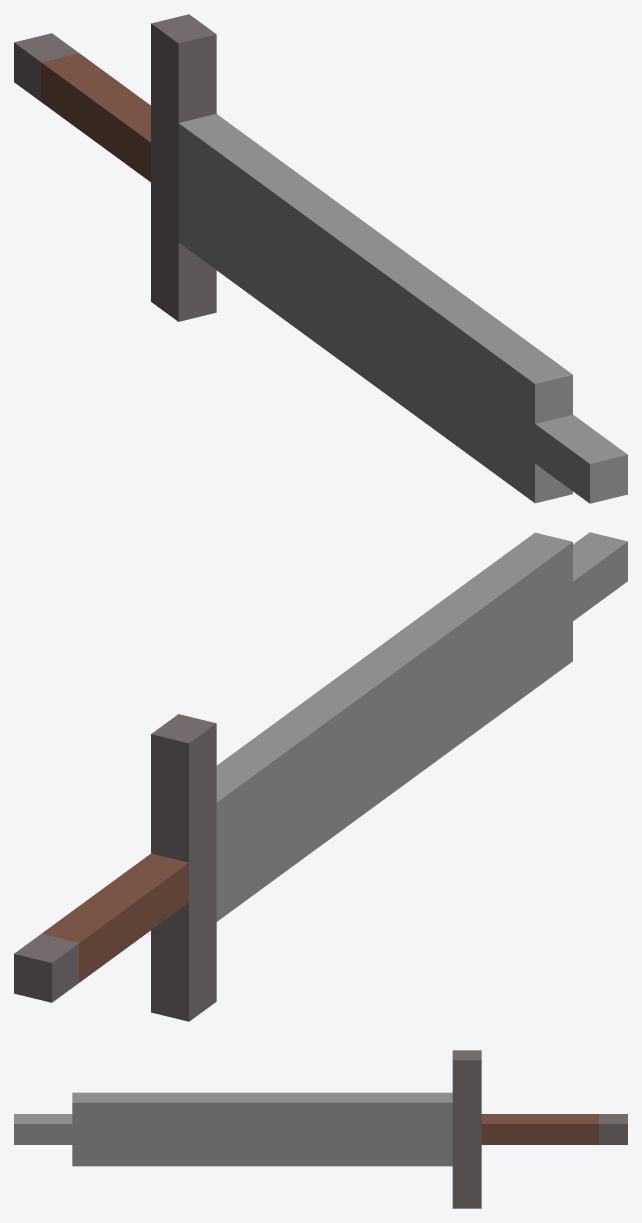
The model's file is Sword.fbx.
3 renders of one model, top to bottom at view 1: azimuth 30°, elevation 25°; view 2: azimuth 150°, elevation 25°; view 3: azimuth 270°, elevation 25°, orthographic. The views are drawn at different scales.
Visible parts, largest first — view 1: Sword; view 2: Sword; view 3: Sword.
Part boxes in pixels (x1=…): Sword: x1=14, y1=14, x2=627, y2=503; Sword: x1=14, y1=532, x2=627, y2=1021; Sword: x1=14, y1=1050, x2=627, y2=1208.
Bounding box in the file's own units: 0.04 × 0.28 × 1.05.
Materials: 1 (1 with a texture image).
